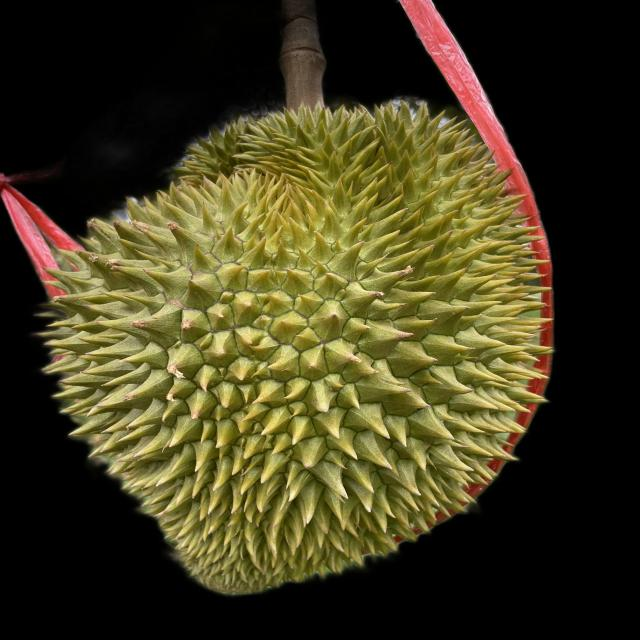immature: (36, 99, 542, 600)
